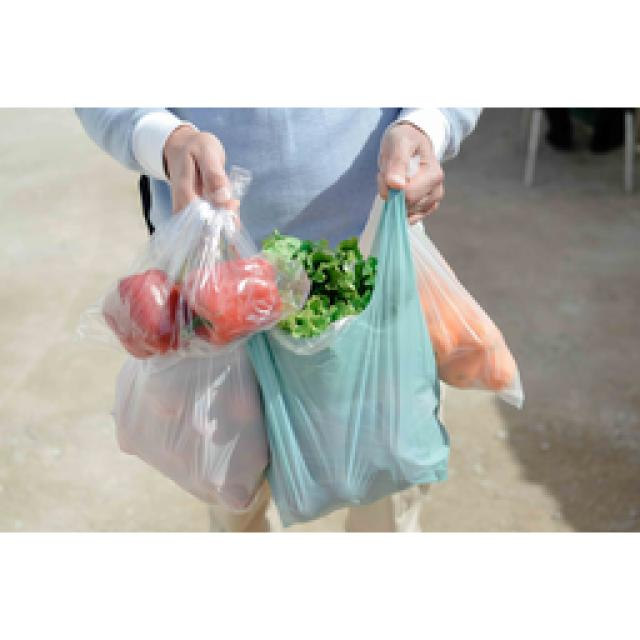plastic: (115, 190, 522, 522)
